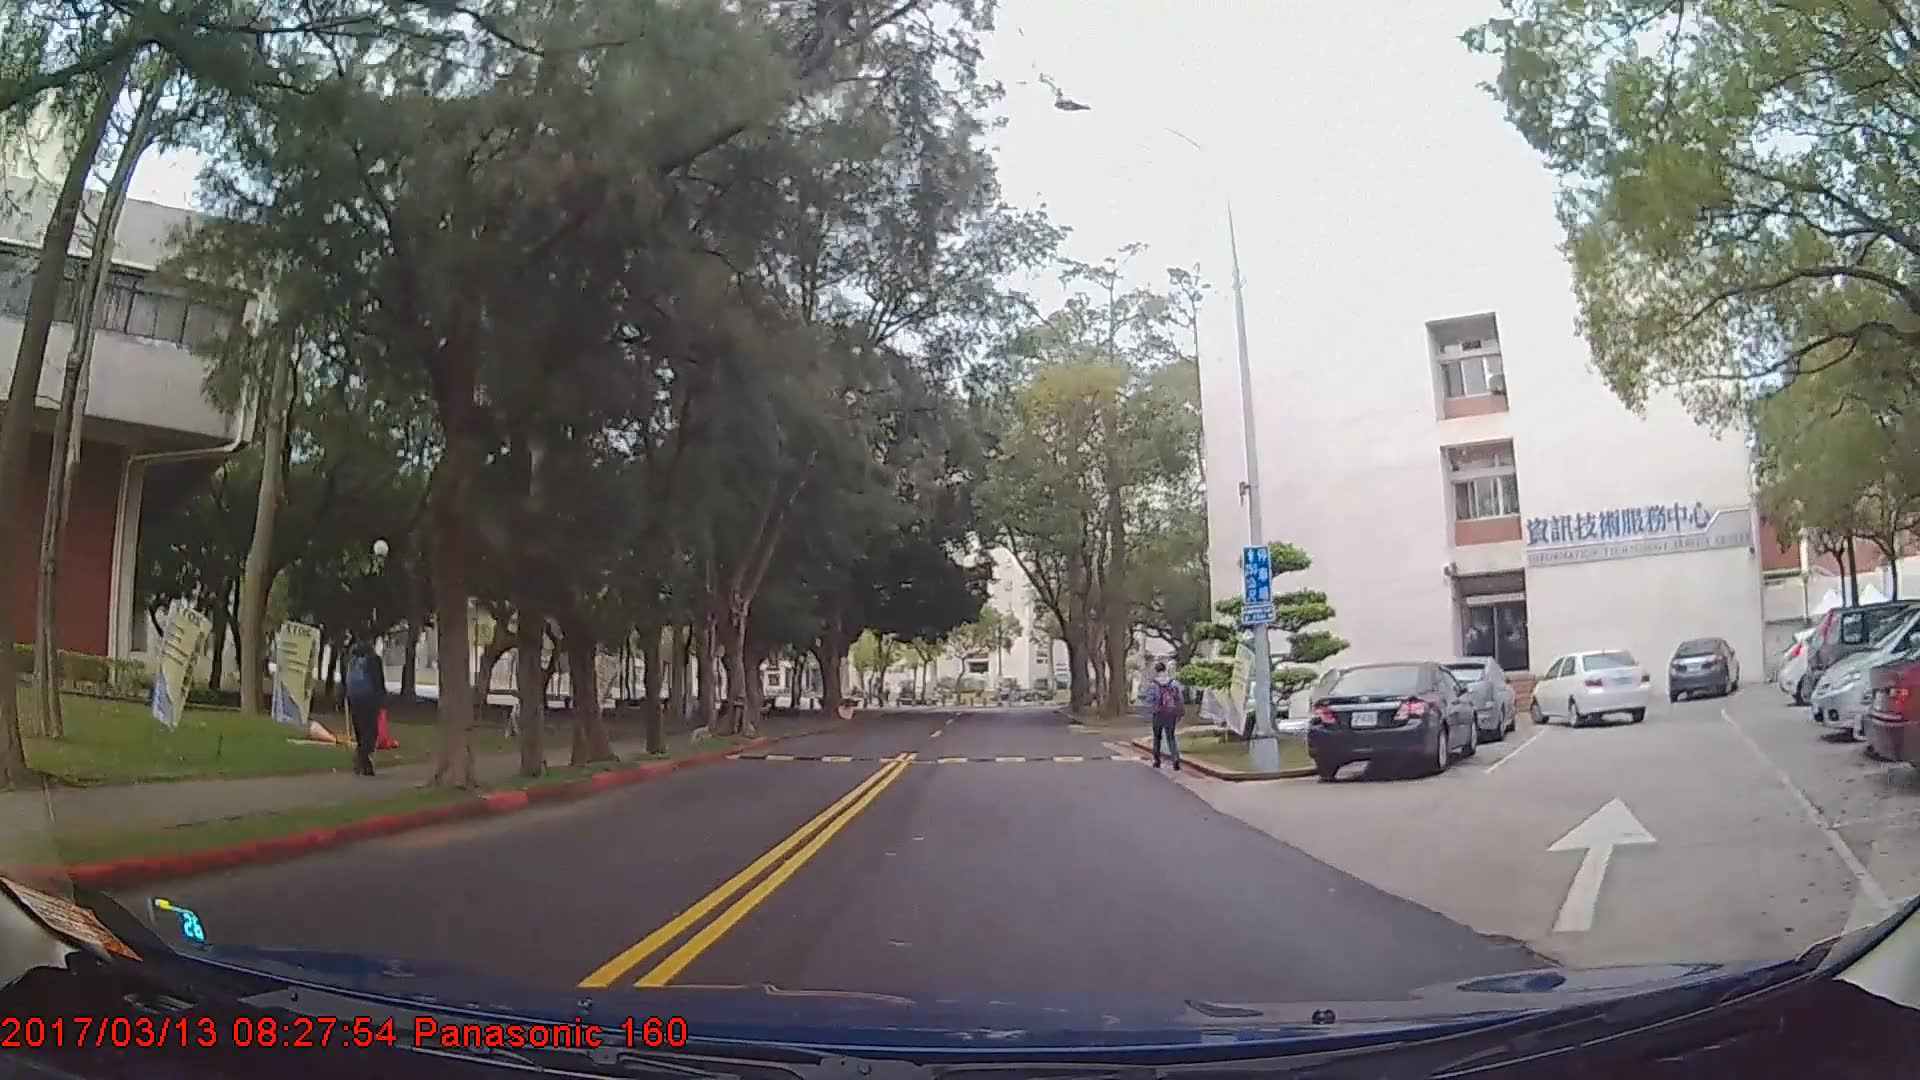pedestrian: (345, 625, 409, 785), (1150, 660, 1191, 777)
vehicle: (1307, 662, 1478, 785), (1811, 602, 1920, 738), (1807, 602, 1920, 720), (1531, 649, 1649, 728), (1417, 656, 1521, 742), (1666, 634, 1738, 702)
